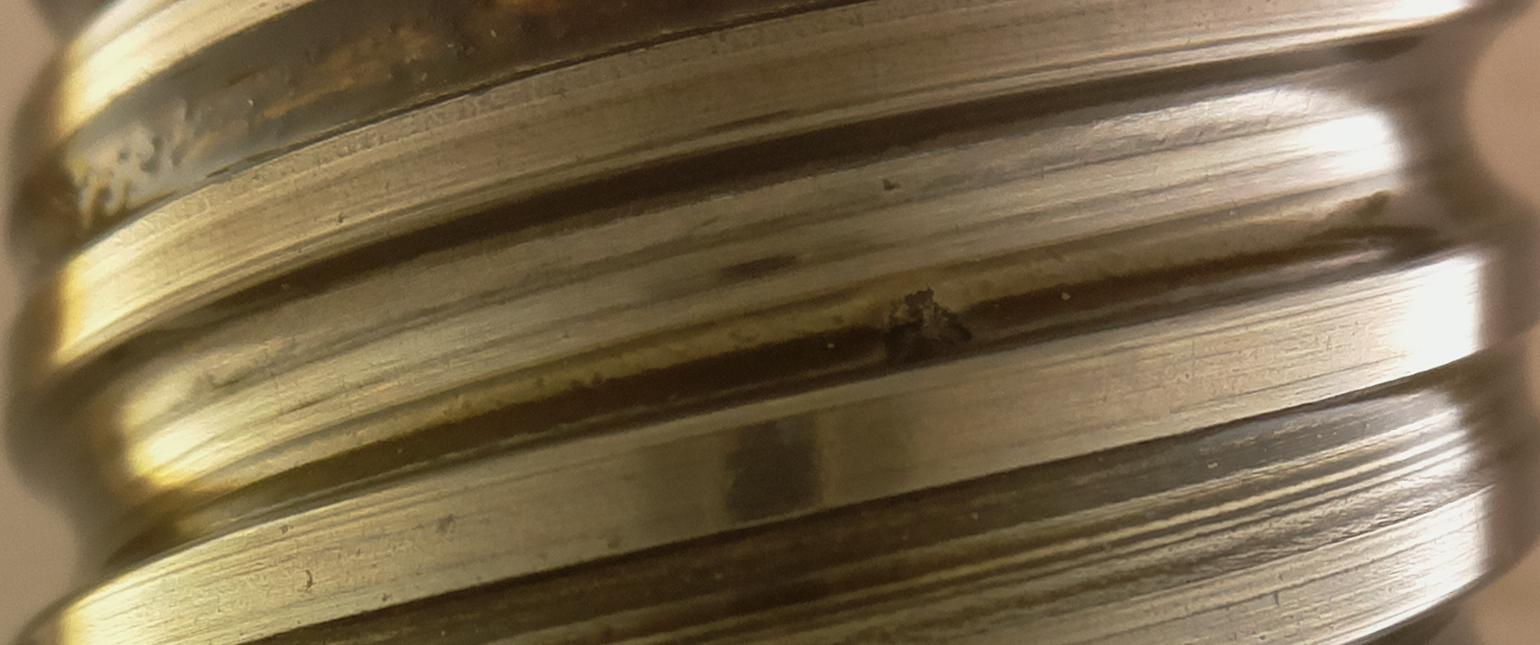pitting: (879, 288, 972, 368)
